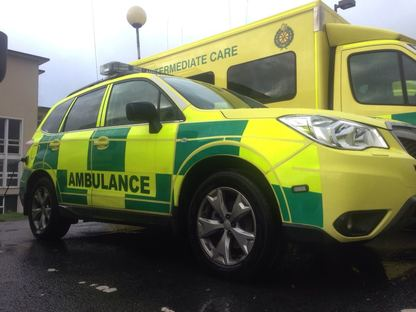ambulance: (18, 59, 416, 290), (123, 0, 416, 126)
